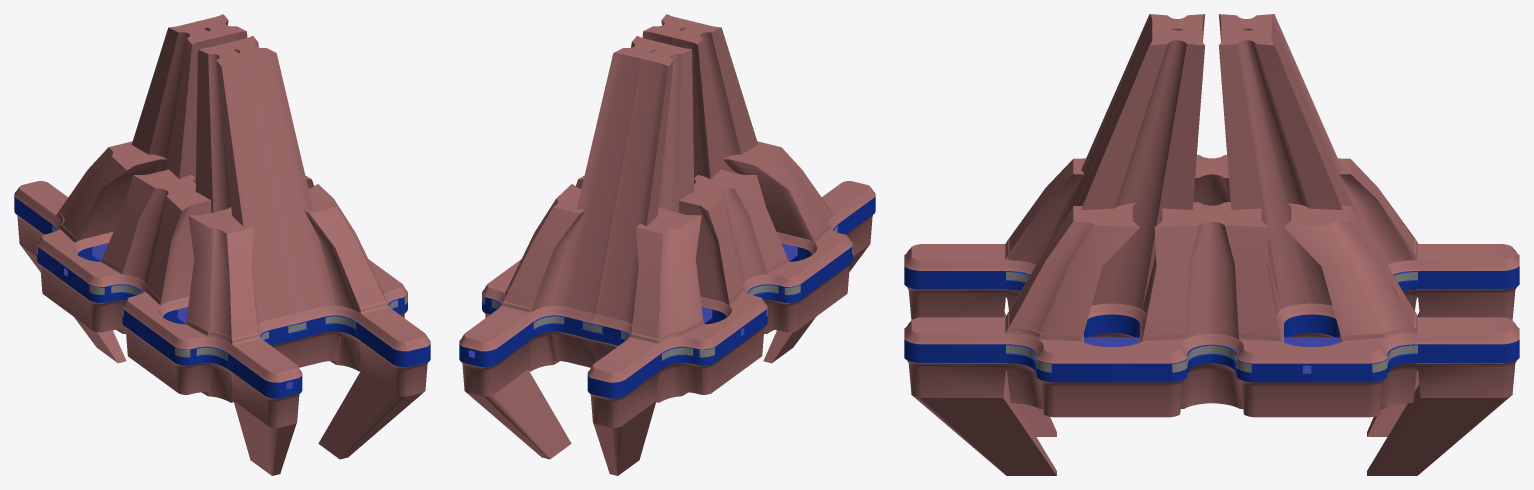
The model's file is SS Module 5.FBX.
3 renders of one model, left to right at view 1: azimuth 30°, elevation 25°; view 2: azimuth 150°, elevation 25°; view 3: azimuth 270°, elevation 25°, orthographic. The views are drawn at different scales.
Visible parts, largest first — view 1: Plane087; view 2: Plane087; view 3: Plane087, Floor002.
Part boxes in pixels (x1,y1,x2,y2): Plane087: (14, 14, 430, 475); Plane087: (459, 14, 875, 475); Plane087: (904, 14, 1519, 475); Floor002: (1084, 337, 1339, 372).
Bounding box in the file's own units: 151 × 225 × 295.
